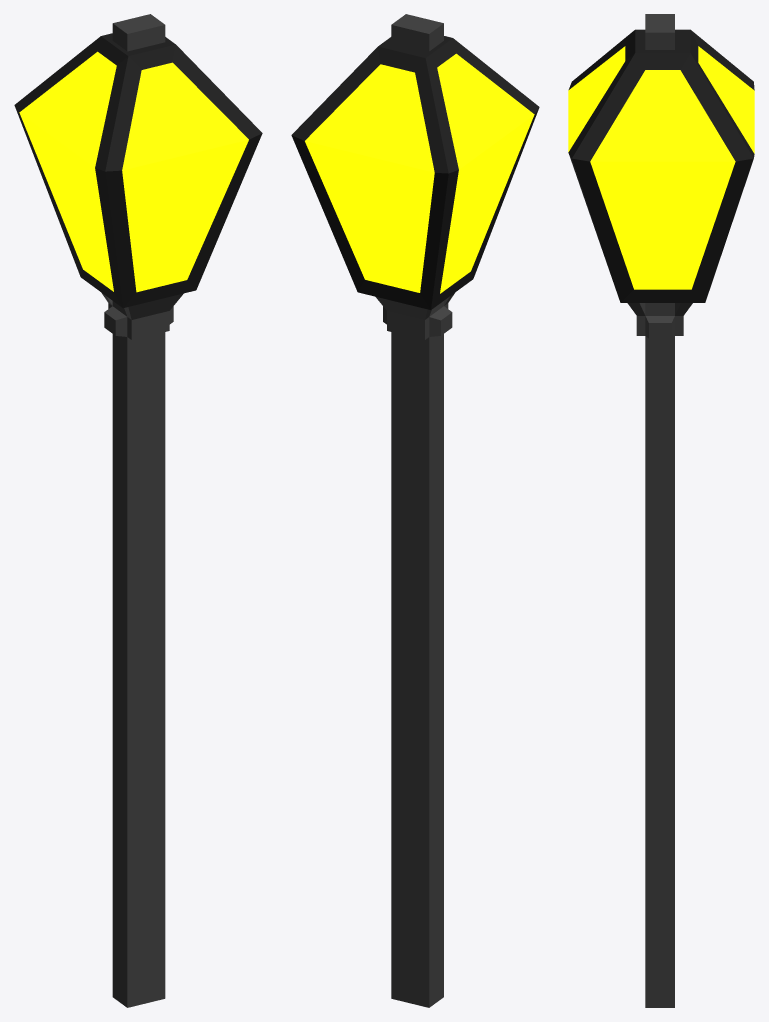
File: Paal.fbx
3 views of the same model, side by side, from view 1: azimuth 30°, elevation 25°; view 2: azimuth 150°, elevation 25°; view 3: azimuth 270°, elevation 25° (orthographic).
Parts seen in each view (by area): view 1: Cube.036, Cube.035; view 2: Cube.036, Cube.035; view 3: Cube.036, Cube.035.
Part boxes in pixels (<box>): Cube.036: <box>14,33,262,308</box>; Cube.035: <box>101,14,183,1007</box>; Cube.036: <box>291,36,539,309</box>; Cube.035: <box>375,14,454,1007</box>; Cube.036: <box>568,29,754,302</box>; Cube.035: <box>627,14,692,1007</box>.
Size of the model in its own units: 9.28 by 52.92 by 9.15.
